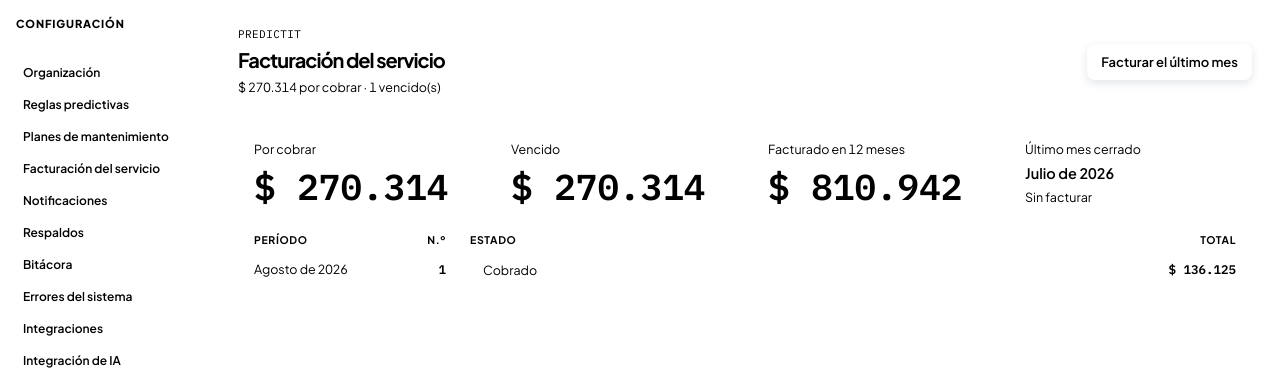
Test: Facturación del servicio › un comprobante cobrado ya no se anula
(page scrolled)
Click the cell "Agosto de 2026": click(313, 269) left=238, top=258, right=388, bottom=280
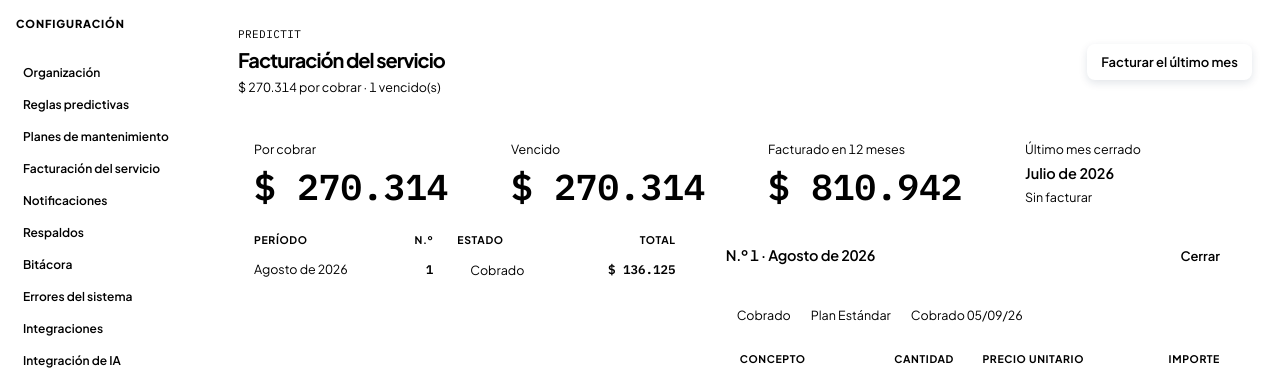
expect the button "Cerrar" is shown: met, box left=1166, top=238, right=1234, bottom=274
